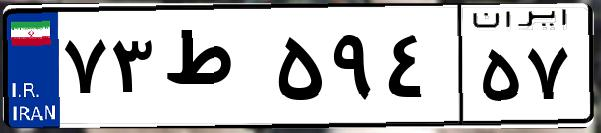3: (110, 28, 158, 98)
4: (385, 28, 445, 110)
5: (270, 28, 330, 110), (475, 38, 525, 113)
7: (57, 26, 110, 100), (525, 38, 570, 115)
9: (330, 28, 385, 110)
ط: (158, 20, 270, 120)
